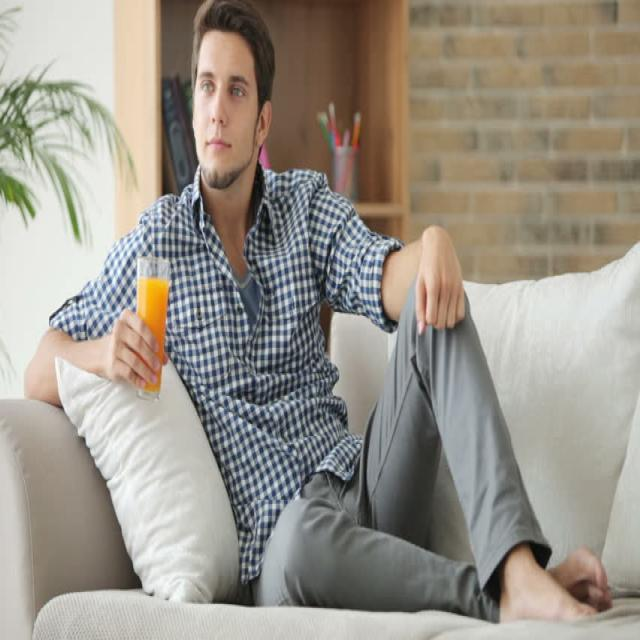sit: (145, 0, 512, 606)
